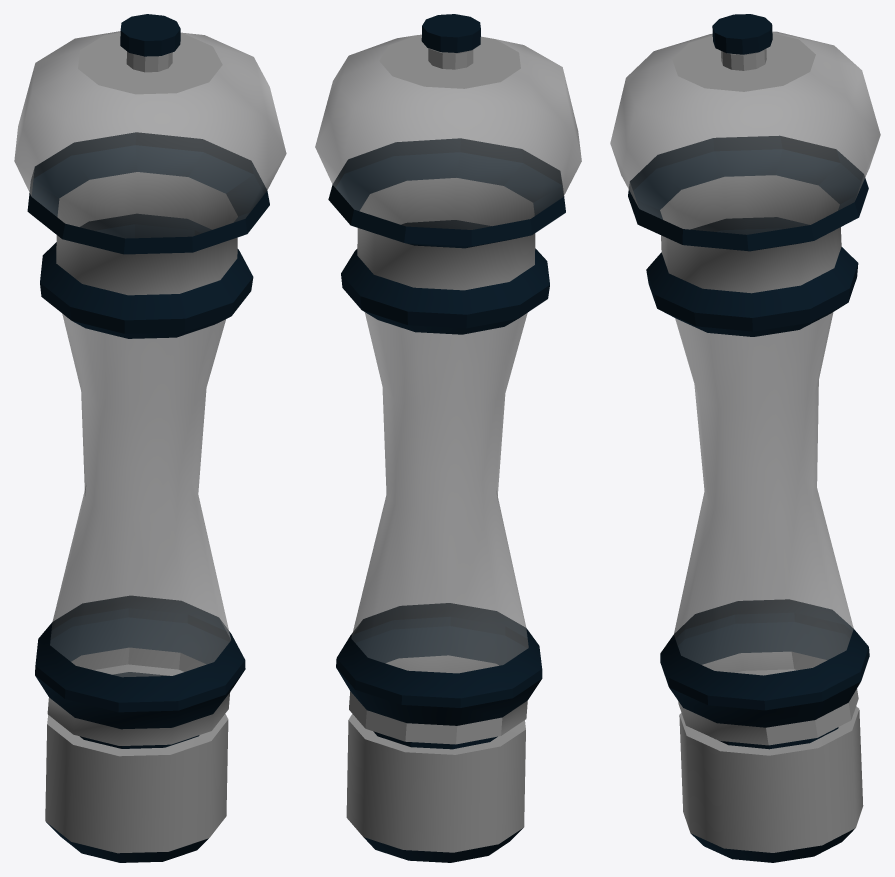
File: pepper mail02.FBX
3 renders of one model, left to right at view 1: azimuth 30°, elevation 25°; view 2: azimuth 150°, elevation 25°; view 3: azimuth 270°, elevation 25°, orthographic. The views are drawn at different scales.
Parts seen in each view (by area): view 1: Cylinder001; view 2: Cylinder001; view 3: Cylinder001.
Boxes of the visible parts, <box> form: Cylinder001: <box>14,14,286,862</box>; Cylinder001: <box>315,14,581,862</box>; Cylinder001: <box>610,14,880,862</box>.
Bounding box in the file's own units: 24.46 × 81.36 × 24.69.
